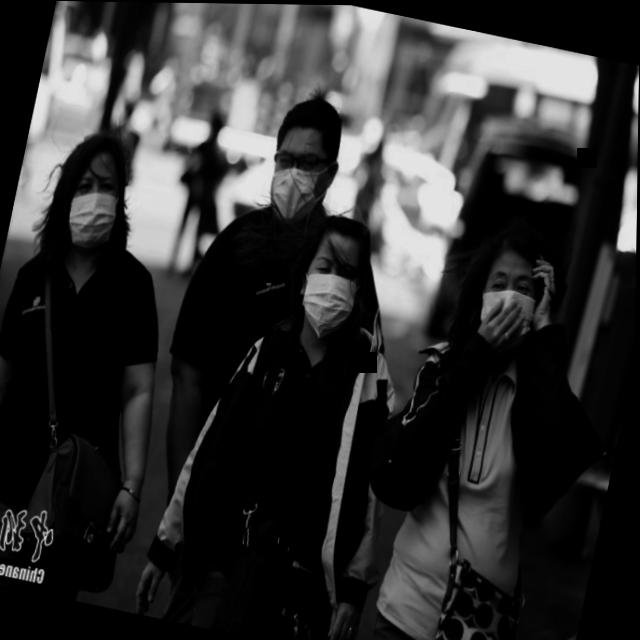Mask: (457, 207, 571, 361), (44, 116, 146, 268), (258, 81, 357, 235), (287, 201, 388, 349)
